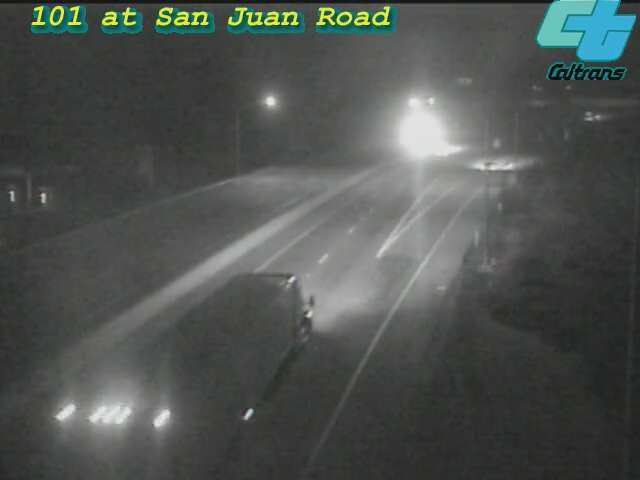vehicle: (172, 292, 282, 402), (446, 128, 526, 208), (392, 107, 442, 157), (569, 91, 619, 141), (423, 123, 473, 173)
